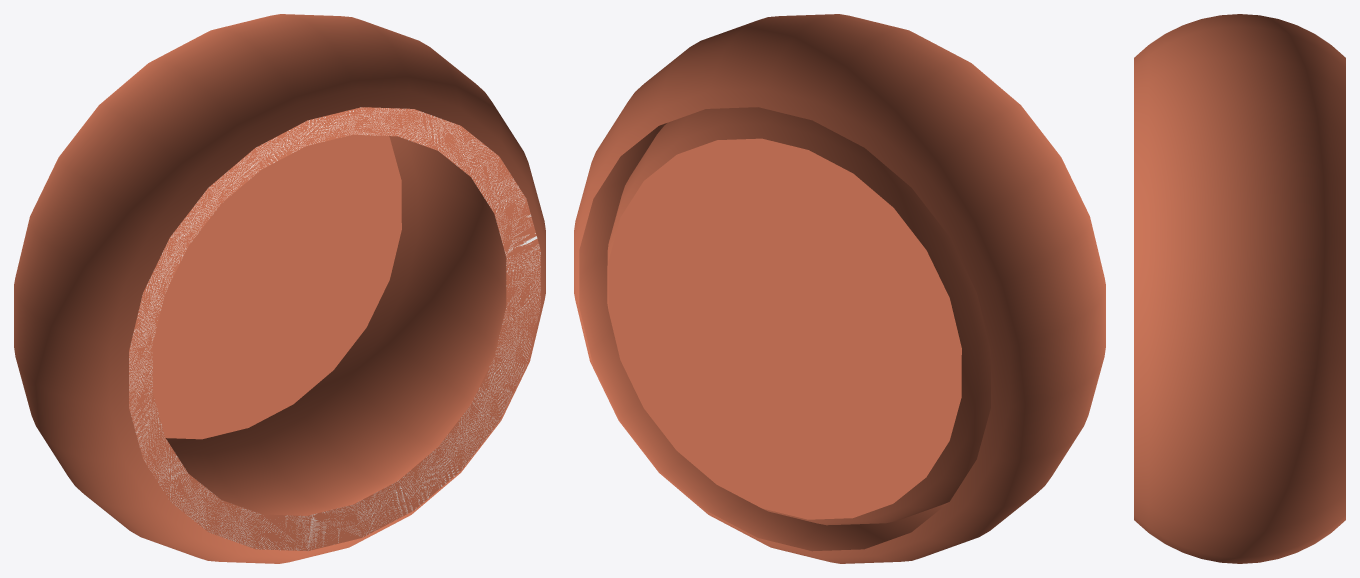
File: model_scale.obj
The picture shows the model from 3 angles, left to right: view 1: azimuth 30°, elevation 25°; view 2: azimuth 150°, elevation 25°; view 3: azimuth 270°, elevation 25°; orthographic projection. The views are drawn at different scales.
Visible parts, largest first — view 1: mesh1_mesh1-geometry; view 2: mesh1_mesh1-geometry; view 3: mesh1_mesh1-geometry.
Boxes of the visible parts, x1,y1,x2,y2 form: mesh1_mesh1-geometry: (14,14,545,563); mesh1_mesh1-geometry: (574,14,1105,563); mesh1_mesh1-geometry: (1134,14,1345,563).
Bounding box in the file's own units: 0.1578 × 0.1578 × 0.0612.
